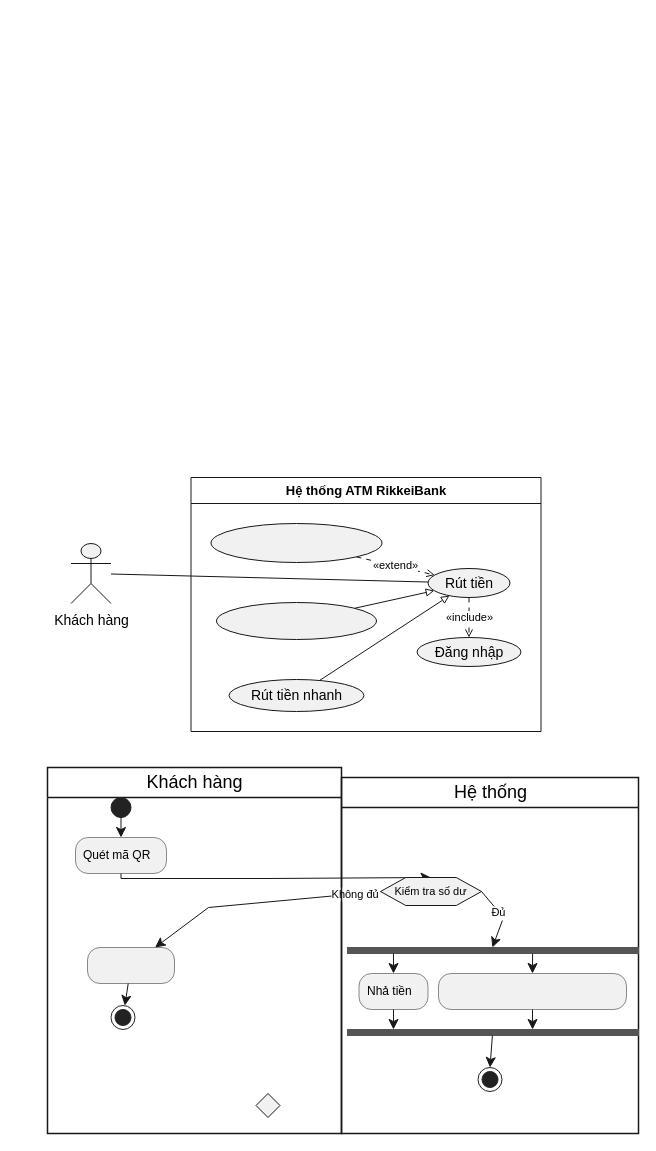
Some shapes in this 656 by 1151 pixel diagram are drawn without their labels. Here are the shapes that lost their labels. From the top down, the centre of each, then its label:
At point 296,542: "In hóa đơn giao dịch".
At point 296,621: "Rút tiền tiêu chuẩn".
At point 130,965: "Hiển thị lỗi".
At point 532,991: "Gửi SMS báo biến động số dư".
